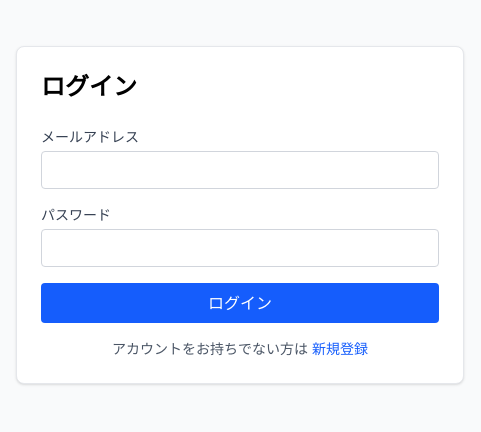
Test: LoginPage › login 失敗時にエラーを表示する
The image size is (481, 432).
In the field labelled "メールアドレス": x=240, y=170 [41, 151, 439, 189], type "test@example.com"
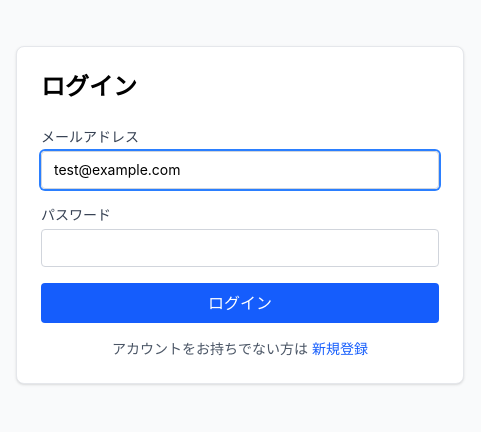
In the password field labelled "パスワード": x=240, y=248 [41, 229, 439, 267], type "wrong"
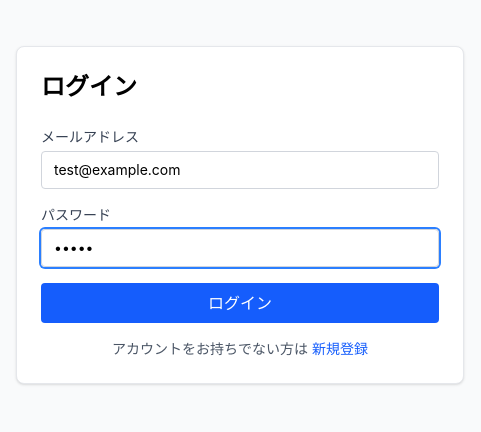
Click the button "ログイン": x=240, y=303 [41, 283, 439, 323]
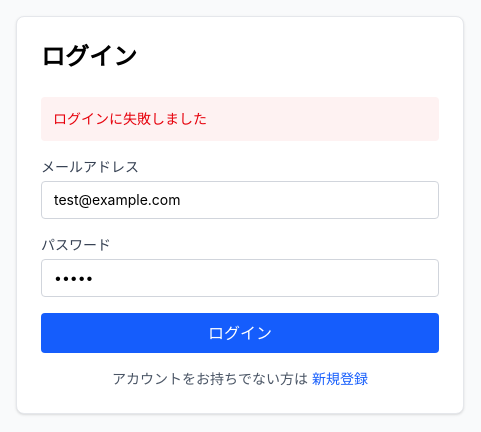
Check: the message reads "ログインに失敗しました", box [53, 110, 207, 127]
